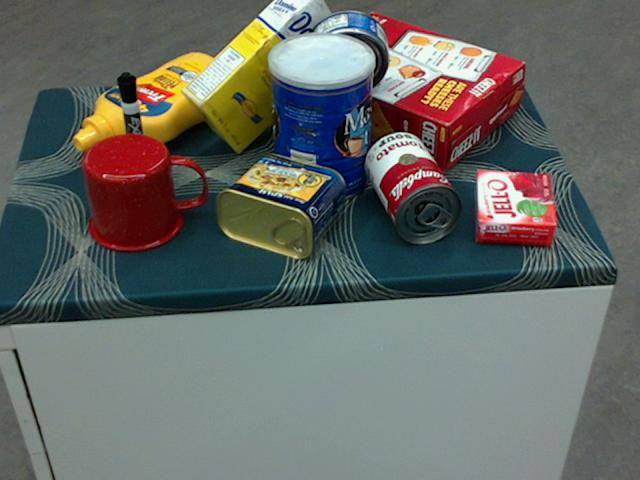cracker_box: (287, 11, 522, 172)
gelatin_box: (472, 170, 556, 243)
large_marker: (115, 72, 150, 181)
master_chef_can: (267, 33, 374, 204)
mug: (83, 132, 206, 252)
mustard_bottle: (71, 53, 238, 153)
potted_meat_can: (214, 153, 344, 258)
sugar_box: (178, 0, 349, 155)
tomato_soup_can: (365, 130, 461, 243)
tuna_fish_can: (307, 9, 389, 93)
